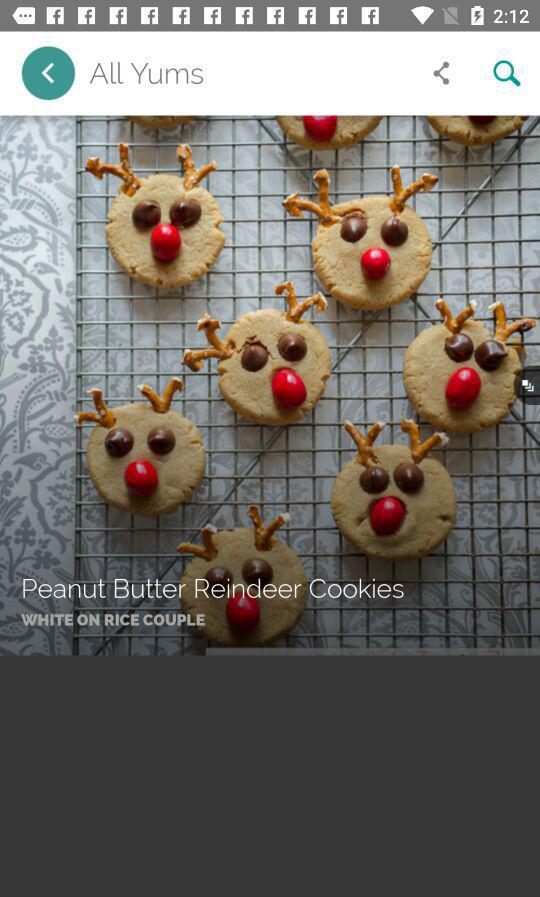Icon: (23, 47, 77, 101), (492, 60, 521, 87), (433, 61, 450, 86)
Image: (1, 116, 540, 657)
Text: (23, 578, 405, 600), (89, 62, 204, 86), (20, 613, 206, 627)
Toolbar: (1, 32, 540, 115)
UpperTaskBar: (1, 1, 540, 33)
